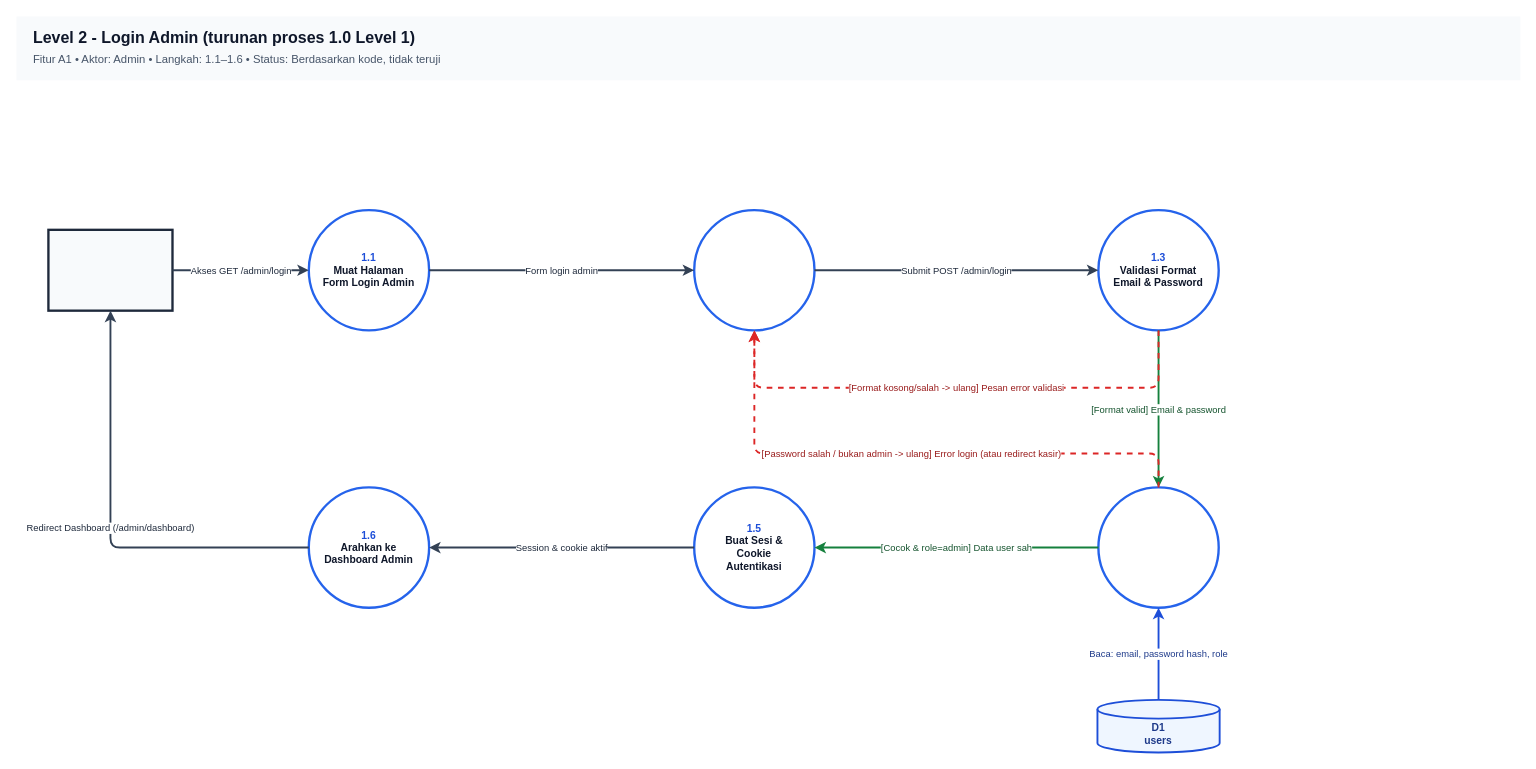
Image size: 1536x769. Some labels were removed from this diagram. The shapes that lost their labels are listed below. From the top down, each one's centre as x and y in pixels, then its label:
At (110,269): "Admin Pengelola Kafe".
At (754,269): "1.2 Input Email, Password & Remember".
At (1158,547): "1.4 Cek Kredensial & Role Admin".
